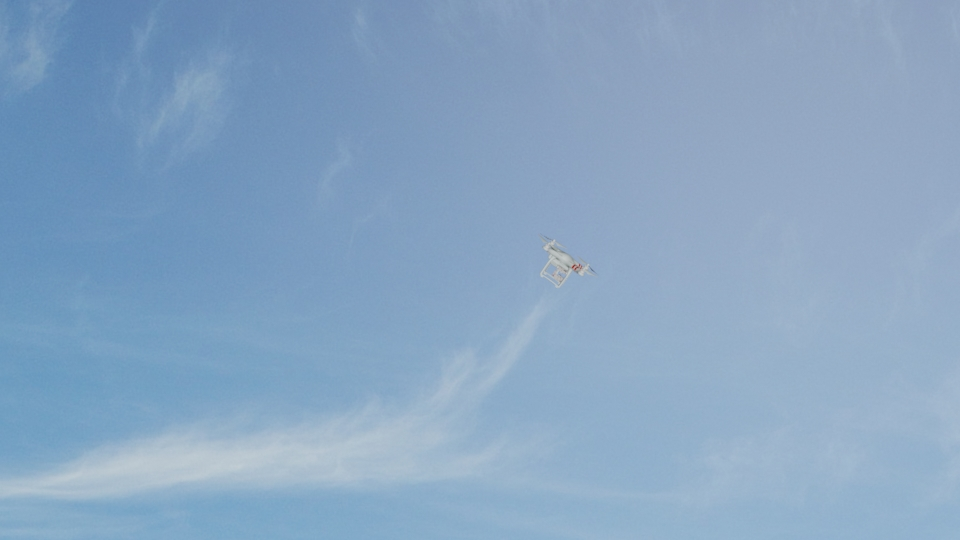drone: (534, 237, 596, 289)
